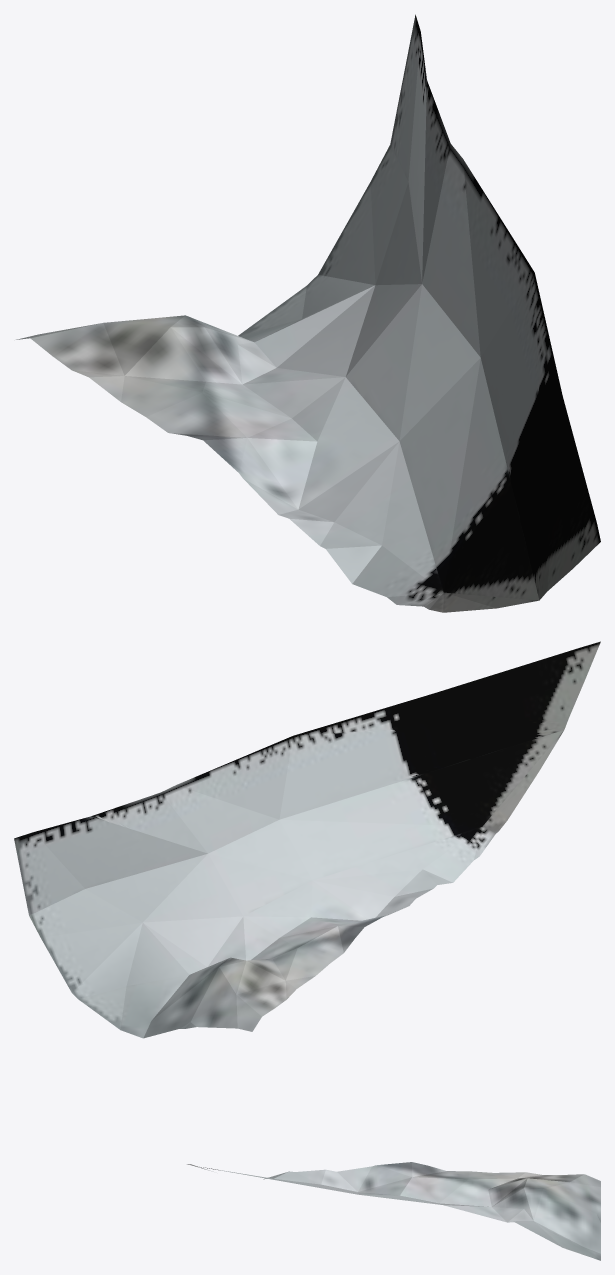
3 renders of one model, top to bottom at view 1: azimuth 30°, elevation 25°; view 2: azimuth 150°, elevation 25°; view 3: azimuth 270°, elevation 25°, orthographic. The views are drawn at different scales.
Bounding box in the file's own units: 0.504 × 0.3404 × 1.28.
1 material, 1 textured.
